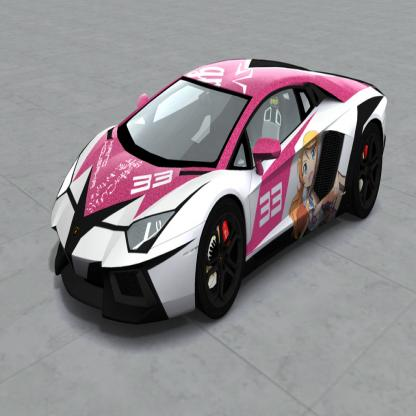Car: (50, 58, 388, 327)
